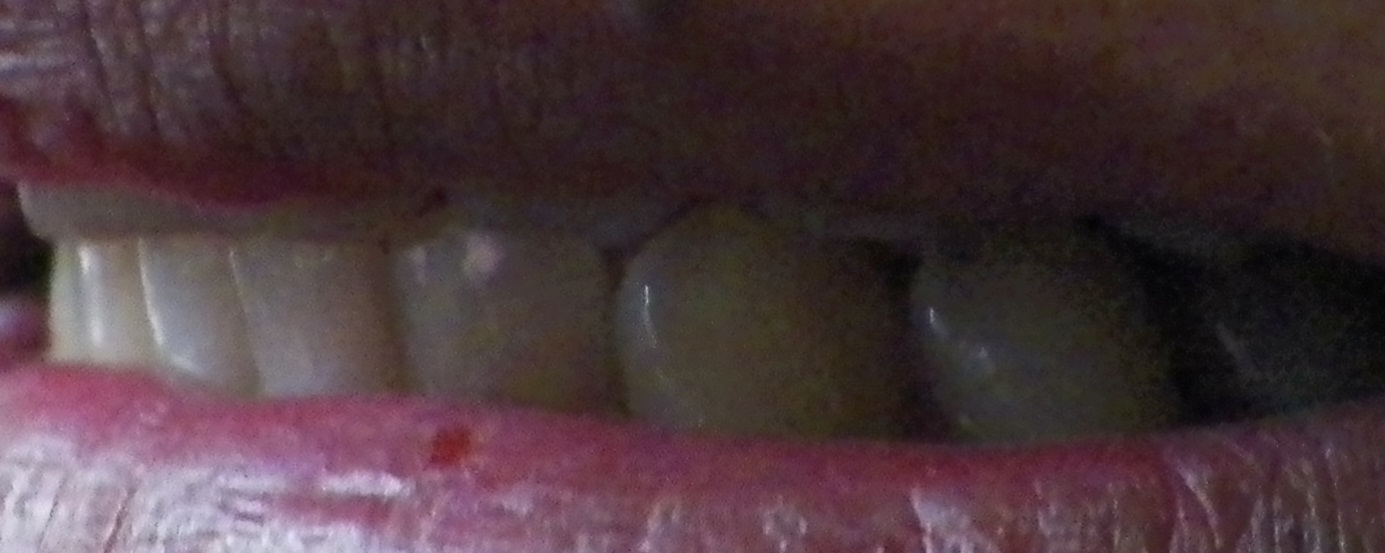boca: (19, 158, 1364, 428)
